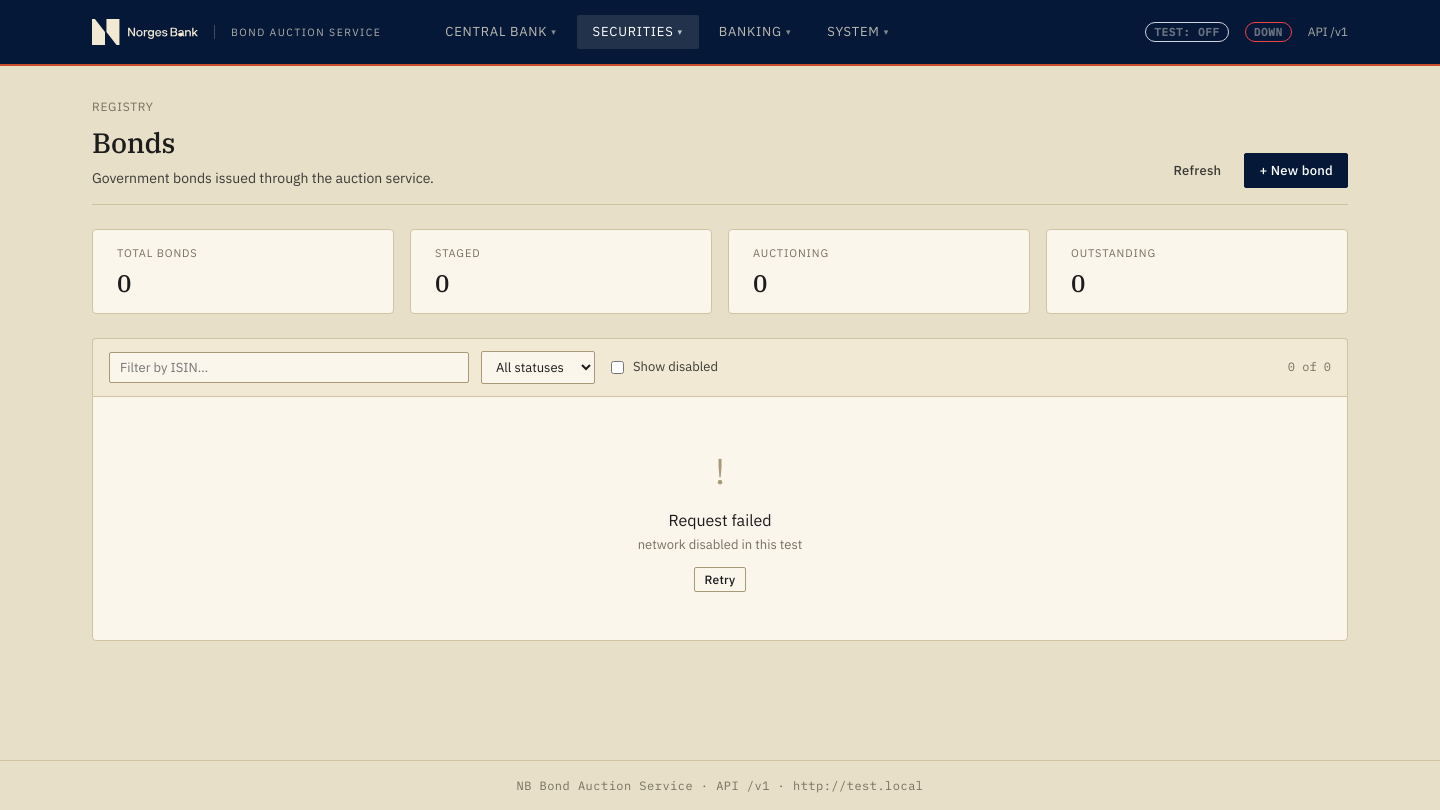
Test: auth gate (none mode) › groups nav into dropdown categories; opening Securities reveals its pages
expect the button "Central Bank ▾" is shown: met, box [429,15,573,49]
expect the button "Banking ▾" is shown: met, box [703,15,807,49]
Click the button "Securities ▾" at coordinates (638, 32), box [577,15,699,49]
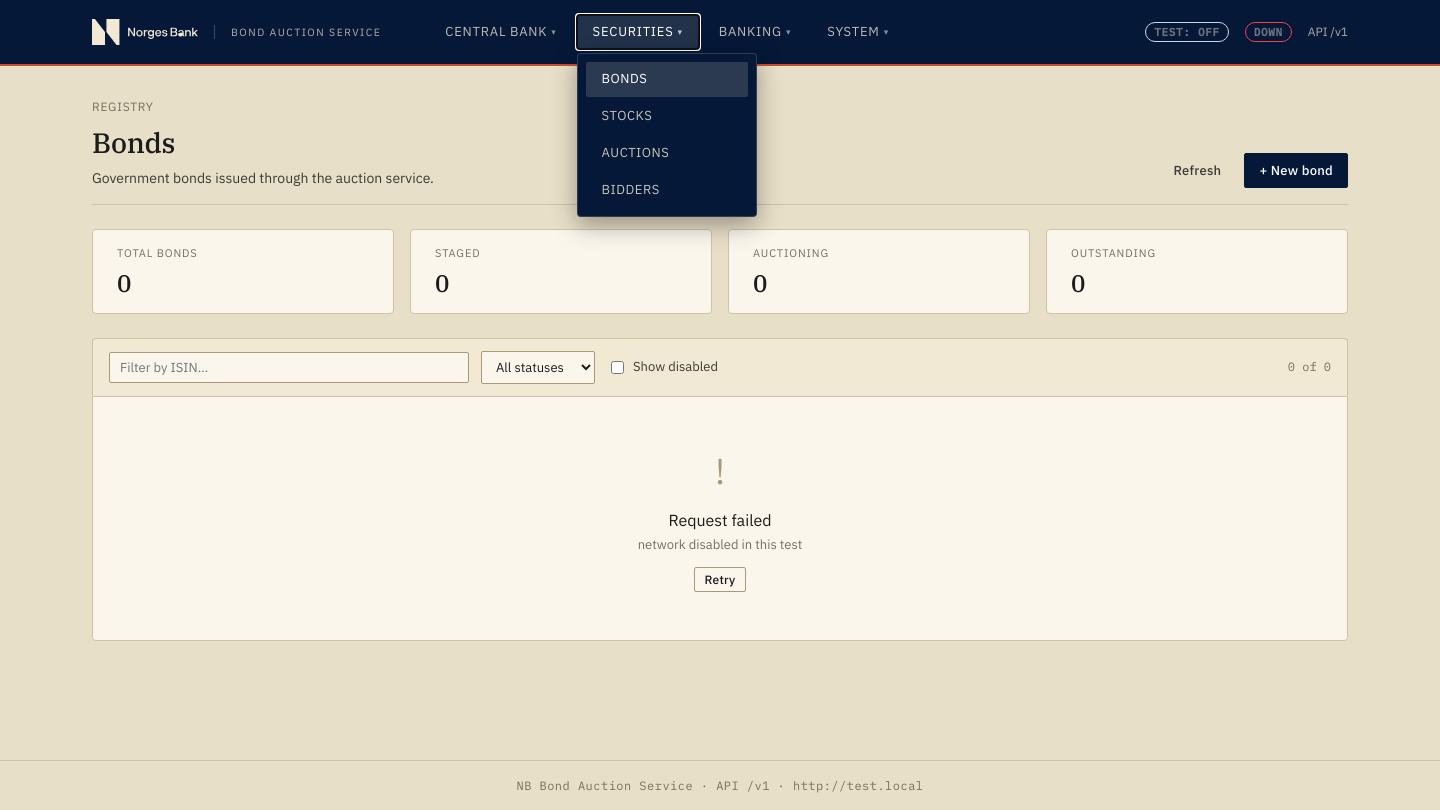
expect the menu item "Bonds" is shown: met, box [586,62,748,97]
expect the menu item "Auctions" is shown: met, box [602,144,669,161]
